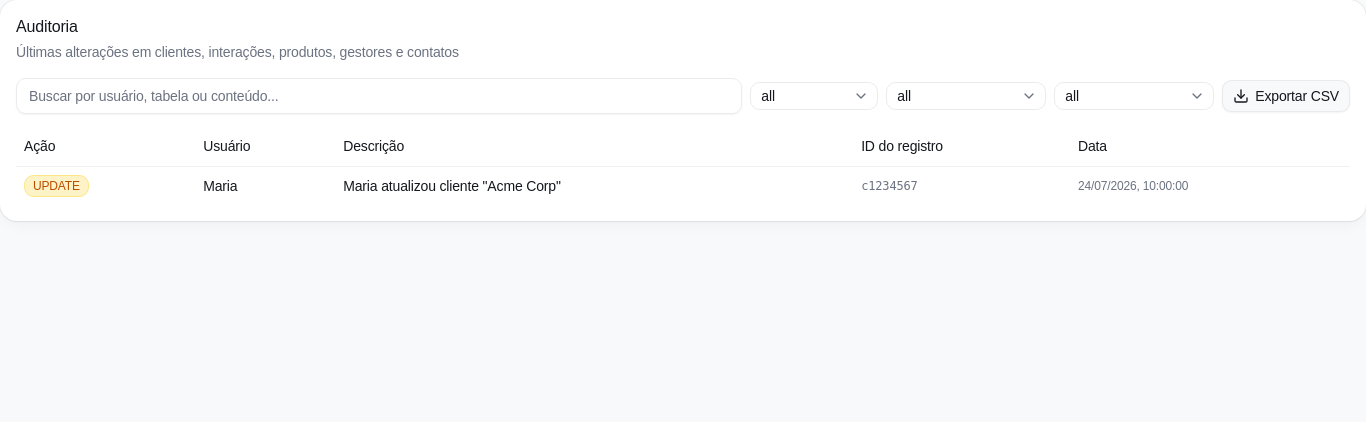
Test: AuditLogView › expande a linha para mostrar o diff e os campos alterados
The width and height of the screenshot is (1366, 422).
Expected: the text "Campos alterados" is not shown
What coordinates should you click on to do the following:
click the text "Maria atualizou cliente \"Acme Corp\""
I would click on:
 (452, 186)
Its box is [335,166,853,204].
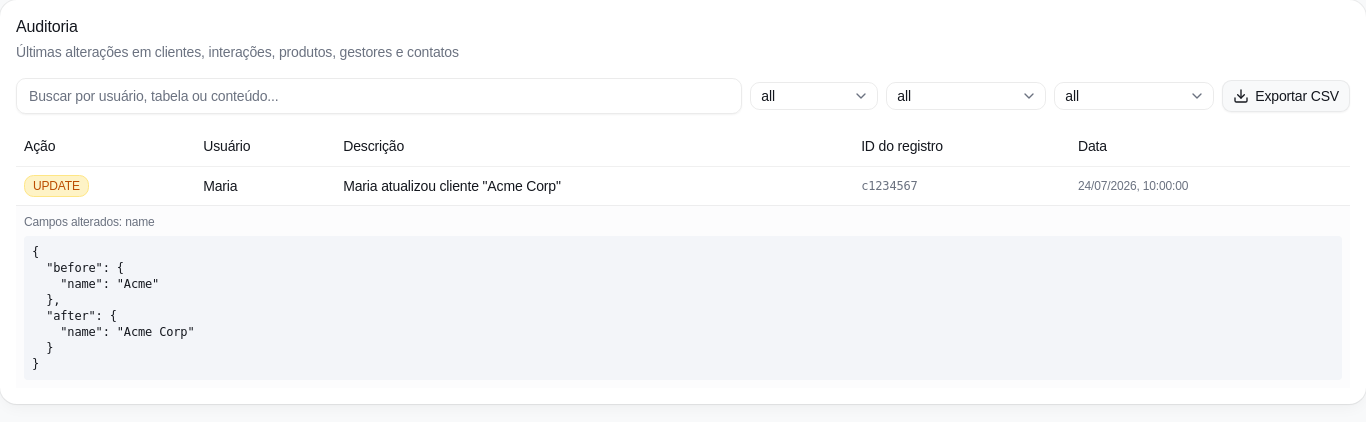
Expected: the text "Campos alterados: name" is shown, [24,214,155,228]
